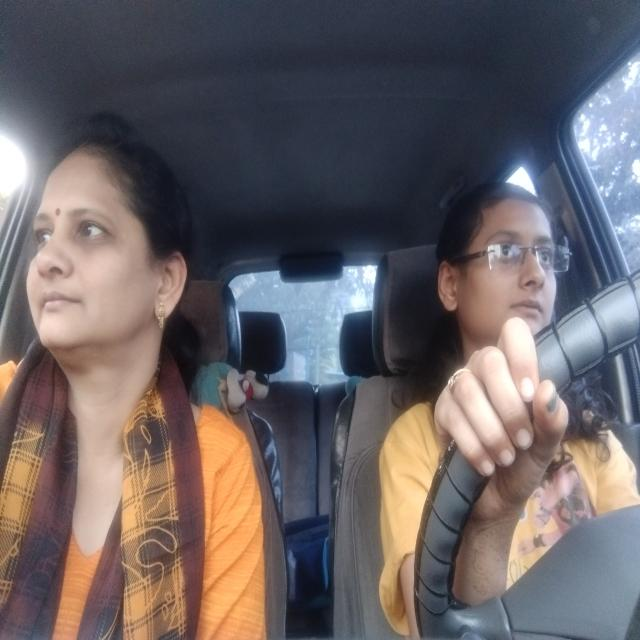person: (29, 141, 193, 351), (440, 181, 570, 335)
